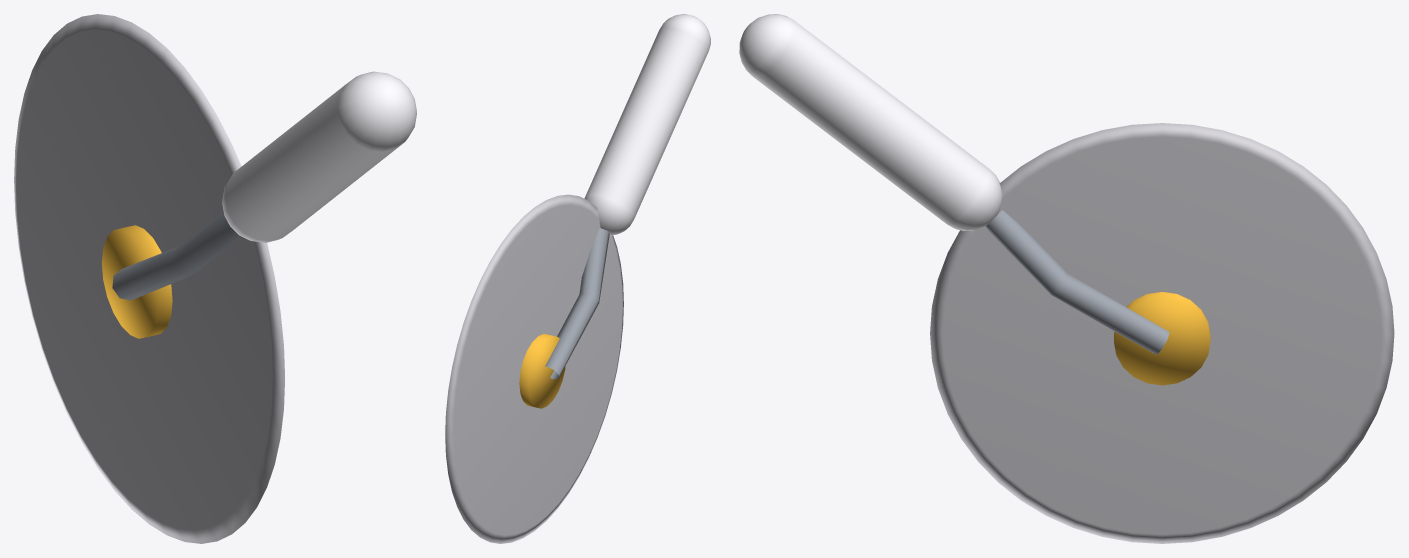
Rendered from EatsaPizzaCutter.obj.
3 renders of one model, left to right at view 1: azimuth 30°, elevation 25°; view 2: azimuth 150°, elevation 25°; view 3: azimuth 270°, elevation 25°, orthographic. The views are drawn at different scales.
Parts seen in each view (by area): view 1: Wheel, Handle, Hub, Fork; view 2: Wheel, Handle, Fork, Hub; view 3: Wheel, Handle, Fork, Hub.
Part boxes in pixels (<box>): Wheel: <box>14,14,284,543</box>; Handle: <box>222,71,416,242</box>; Hub: <box>101,225,172,338</box>; Fork: <box>112,212,240,300</box>; Wheel: <box>445,194,623,543</box>; Handle: <box>584,14,710,235</box>; Fork: <box>545,228,609,379</box>; Hub: <box>519,334,565,408</box>; Wheel: <box>930,123,1394,543</box>; Handle: <box>739,14,1002,231</box>; Fork: <box>985,210,1169,354</box>; Hub: <box>1114,292,1210,385</box>.
Bounding box in the file's own units: 1.14 × 9 × 10.15.
